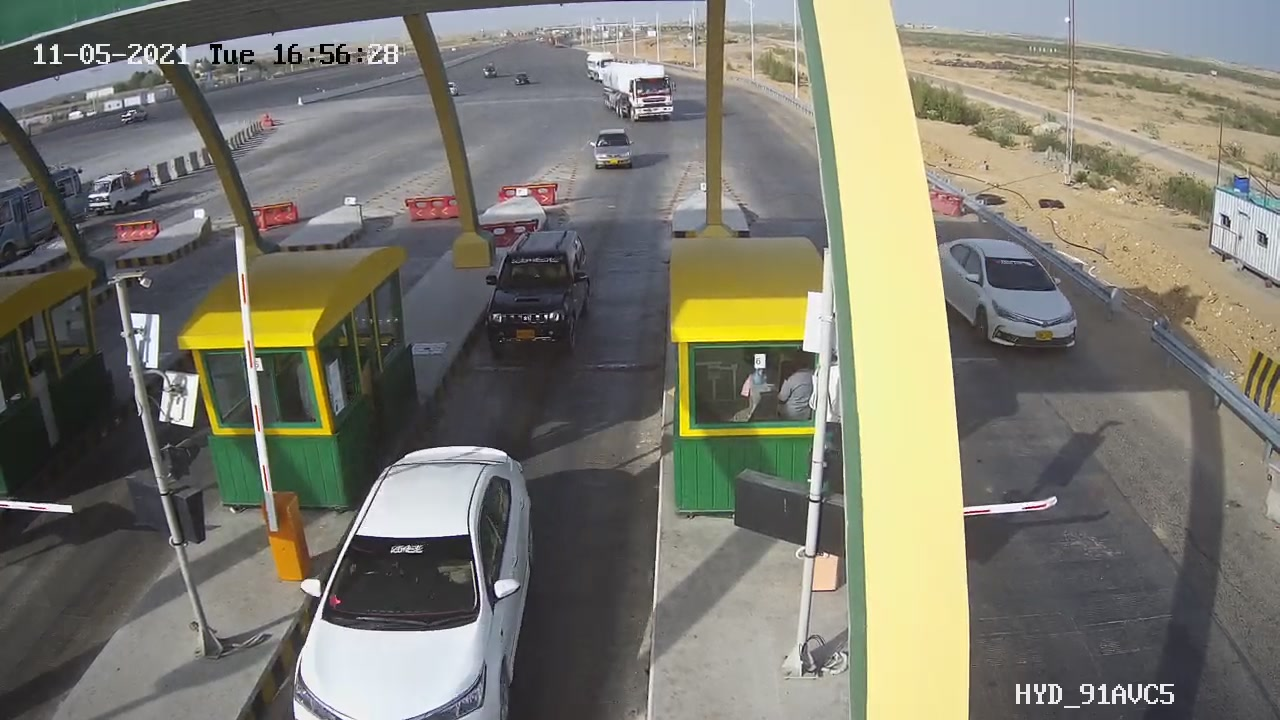F1: (467, 215, 605, 375)
